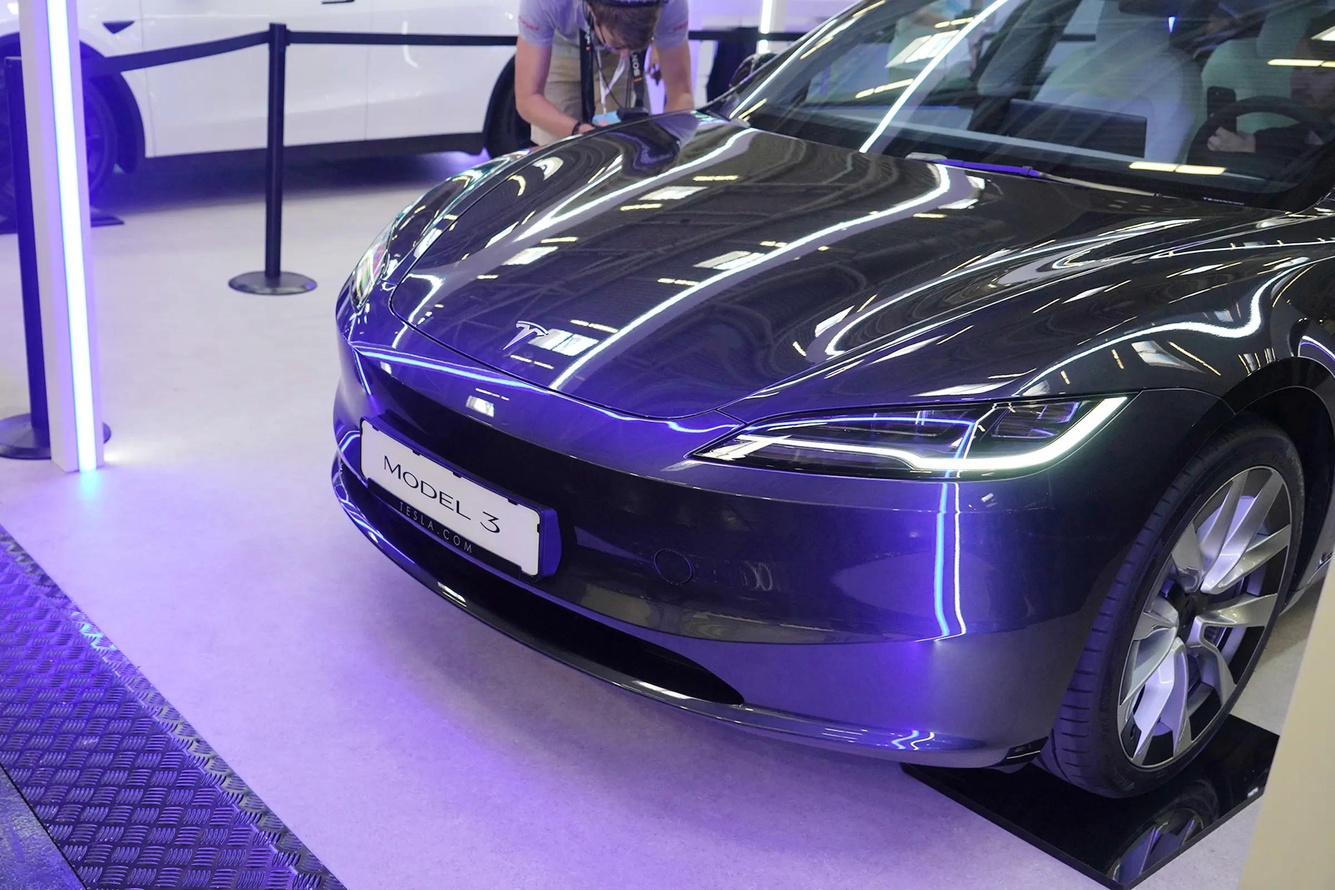Tesla: (500, 319, 549, 352)
